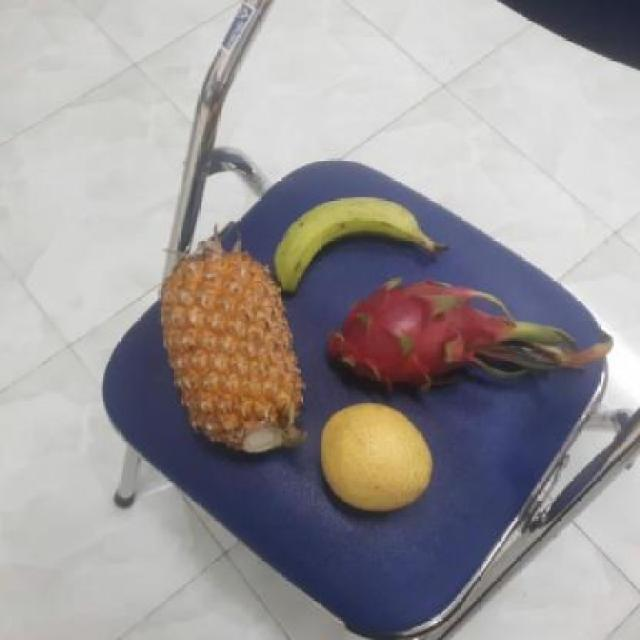banana: (267, 196, 421, 295)
dragon fruit: (322, 279, 510, 396)
pear: (313, 402, 436, 516)
pineapple: (156, 248, 310, 454)
